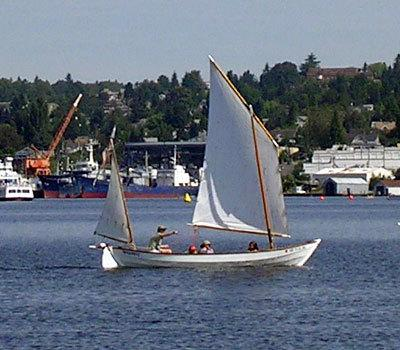Ship: (90, 54, 319, 271)
